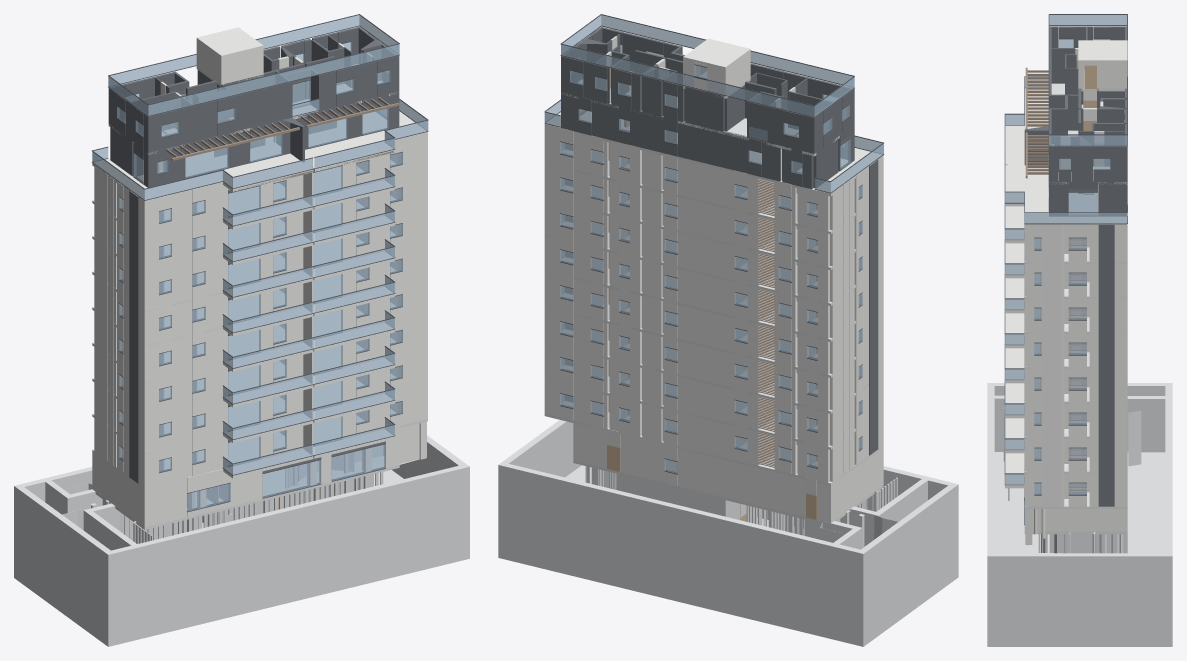
File: feierberg3_model.glb
3 views of the same model, side by side, from view 1: azimuth 30°, elevation 25°; view 2: azimuth 150°, elevation 25°; view 3: azimuth 270°, elevation 25° (orthographic). The views are drawn at different scales.
Visible parts, largest first — view 1: Feierberg3_BIM; view 2: Feierberg3_BIM; view 3: Feierberg3_BIM.
Part boxes in pixels (x1=…): Feierberg3_BIM: x1=14, y1=14, x2=469, y2=646; Feierberg3_BIM: x1=498, y1=14, x2=958, y2=646; Feierberg3_BIM: x1=987, y1=14, x2=1172, y2=646.
Size of the model in its own units: 33.5 by 45.87 by 15.13.
